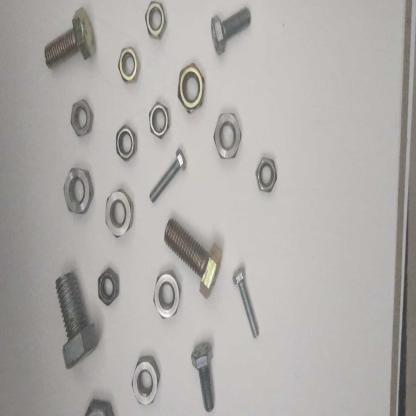Bolts: (49, 269, 98, 373), (41, 2, 98, 80), (185, 333, 227, 416), (207, 1, 263, 57), (231, 261, 266, 349), (149, 143, 190, 215)
NUTS: (211, 103, 246, 161), (62, 156, 94, 218), (127, 354, 164, 406), (104, 183, 136, 242), (151, 269, 185, 324), (175, 59, 207, 115), (254, 150, 282, 206), (67, 95, 97, 141), (140, 1, 172, 42), (146, 95, 172, 141), (116, 42, 142, 86), (96, 264, 120, 308), (111, 125, 140, 161)
